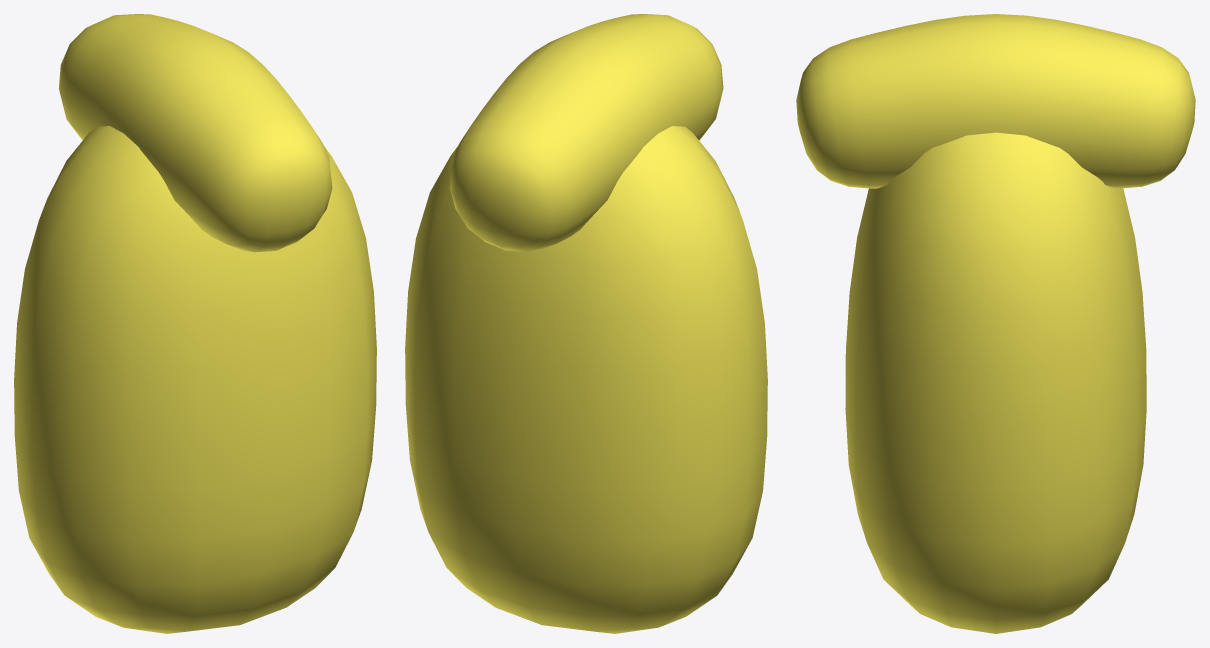
The model's file is SM_Partygoer_Torso.fbx.
The picture shows the model from 3 angles, left to right: view 1: azimuth 30°, elevation 25°; view 2: azimuth 150°, elevation 25°; view 3: azimuth 270°, elevation 25°; orthographic projection. The views are drawn at different scales.
Visible parts, largest first — view 1: SM_Partygoer_Torso; view 2: SM_Partygoer_Torso; view 3: SM_Partygoer_Torso.
Boxes of the visible parts, <box> form: SM_Partygoer_Torso: <box>14,14,376,633</box>; SM_Partygoer_Torso: <box>405,14,767,633</box>; SM_Partygoer_Torso: <box>796,14,1195,633</box>.
Size of the model in its own units: 35.63 by 59.59 by 36.86.
